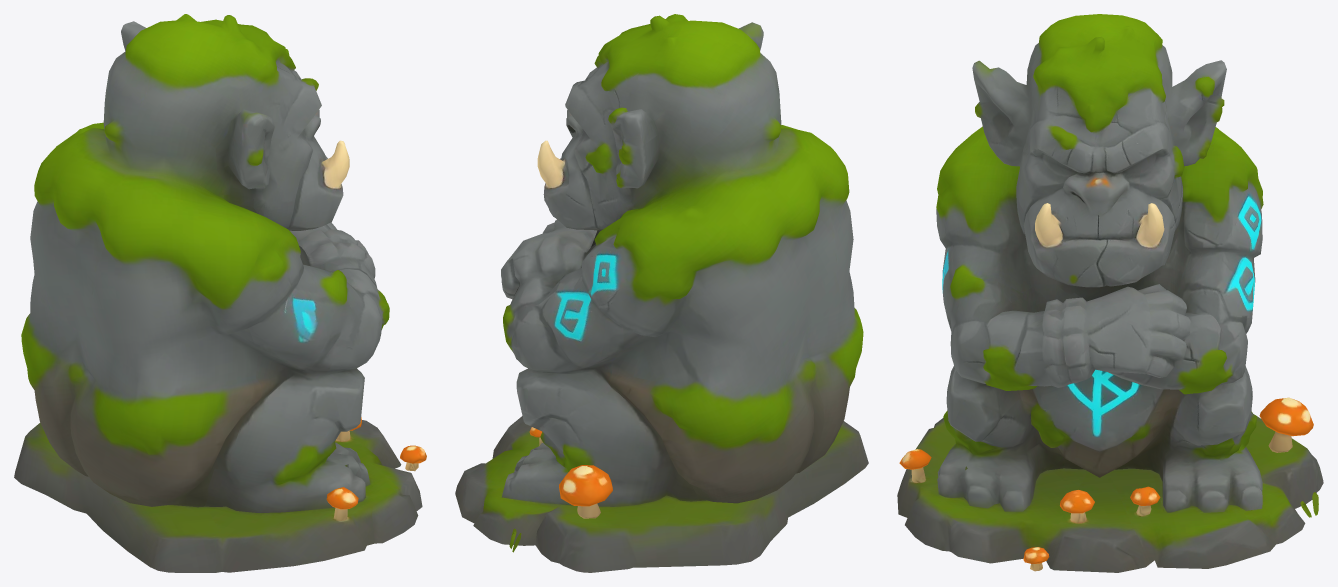
The model's file is troll_idol.glb.
3 renders of one model, left to right at view 1: azimuth 30°, elevation 25°; view 2: azimuth 150°, elevation 25°; view 3: azimuth 270°, elevation 25°, orthographic.
Parts seen in each view (by area): view 1: tripo_node_2adfeb7c-d71b-4676-bc4f-6bcbf6265836; view 2: tripo_node_2adfeb7c-d71b-4676-bc4f-6bcbf6265836; view 3: tripo_node_2adfeb7c-d71b-4676-bc4f-6bcbf6265836.
Boxes of the visible parts, box(x1,y1,x2,y2) form: tripo_node_2adfeb7c-d71b-4676-bc4f-6bcbf6265836: box(14, 14, 426, 572); tripo_node_2adfeb7c-d71b-4676-bc4f-6bcbf6265836: box(455, 14, 868, 572); tripo_node_2adfeb7c-d71b-4676-bc4f-6bcbf6265836: box(897, 14, 1323, 572).
Bounding box in the file's own units: 0.7353 × 0.998 × 0.8355.
Materials: 1 (1 with a texture image).
